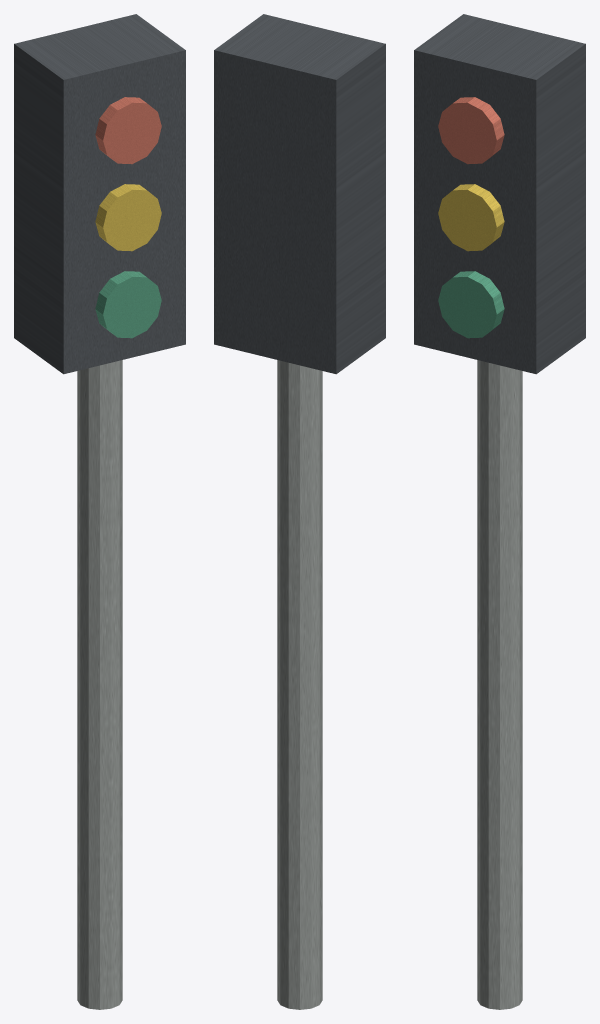
File: traffic_light_lod1.glb
The picture shows the model from 3 angles, left to right: view 1: azimuth 30°, elevation 25°; view 2: azimuth 150°, elevation 25°; view 3: azimuth 330°, elevation 25°; orthographic projection.
Visible parts, largest first — view 1: world; view 2: world; view 3: world.
Part boxes in pixels (x1,y1,x2,y2): world: (14,14,185,1009); world: (214,14,385,1009); world: (414,14,585,1009).
Size of the model in its own units: 0.5 by 3.72 by 0.405.
5 materials, 5 textured.
